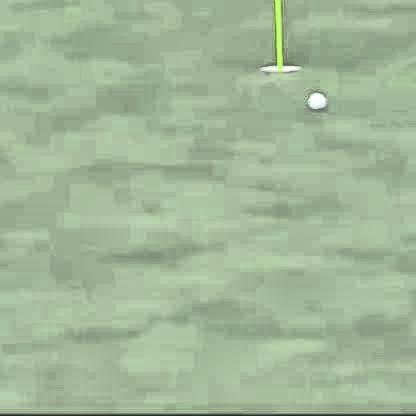golfball: (304, 90, 323, 108)
